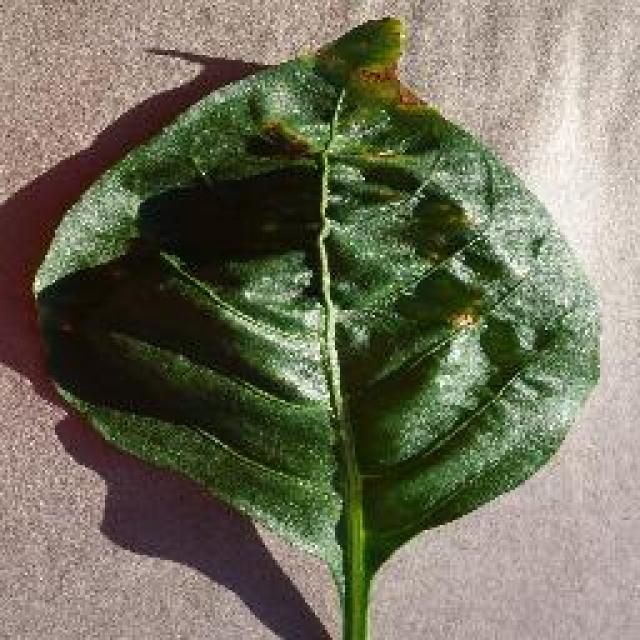Chilli_Bacterial_Spot: (25, 12, 605, 638), (310, 12, 410, 108), (390, 263, 488, 335), (395, 188, 473, 268), (245, 115, 313, 163), (345, 60, 403, 108), (440, 303, 482, 335), (352, 60, 398, 88), (522, 230, 548, 262)
